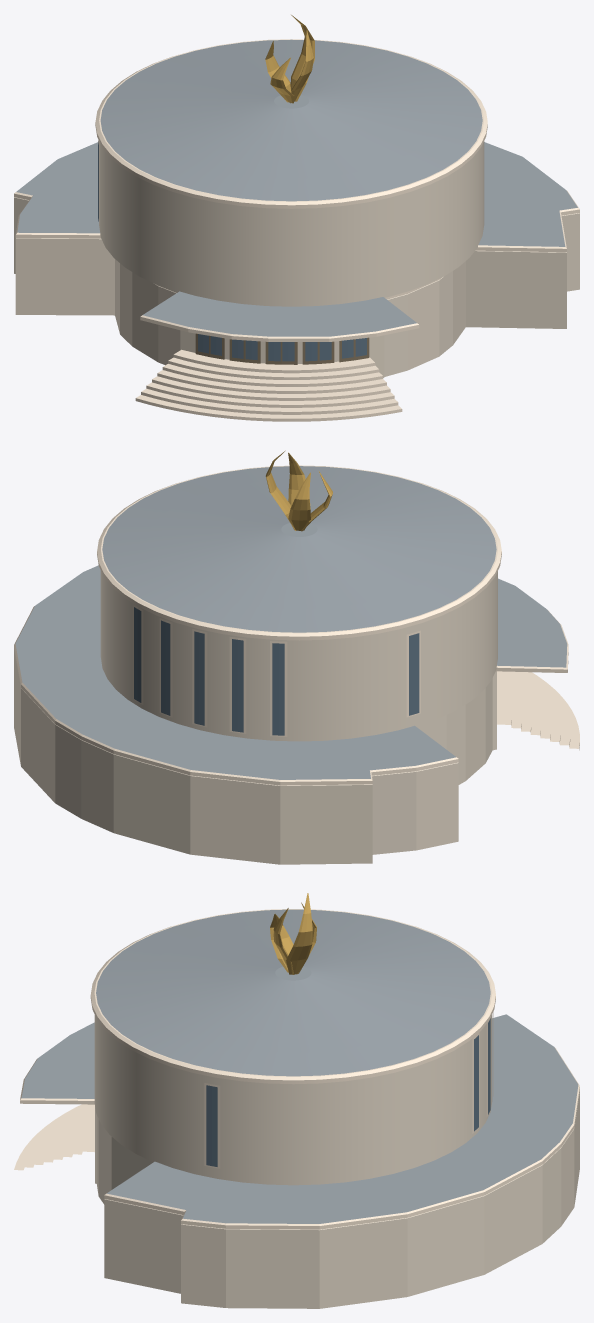
Rendered from dc-au-kay-spiritual-life-center.glb.
The picture shows the model from 3 angles, top to bottom: view 1: azimuth 30°, elevation 25°; view 2: azimuth 150°, elevation 25°; view 3: azimuth 270°, elevation 25°; orthographic projection. The views are drawn at different scales.
Parts seen in each view (by area): view 1: Kay Spiritual Life Center; view 2: Kay Spiritual Life Center; view 3: Kay Spiritual Life Center.
Boxes of the visible parts, x1=… form: Kay Spiritual Life Center: x1=14, y1=15, x2=579, y2=421; Kay Spiritual Life Center: x1=14, y1=450, x2=579, y2=864; Kay Spiritual Life Center: x1=14, y1=893, x2=579, y2=1308.
Bounding box in the file's own units: 29.3 × 17.4 × 30.22.
